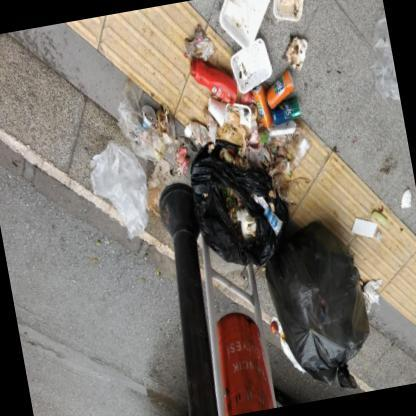Garbage: (141, 0, 358, 267), (255, 222, 386, 400), (218, 52, 316, 194), (189, 9, 320, 110), (74, 108, 160, 260), (92, 72, 194, 196), (214, 169, 291, 264), (172, 11, 232, 127), (202, 0, 308, 50), (347, 199, 398, 250)
